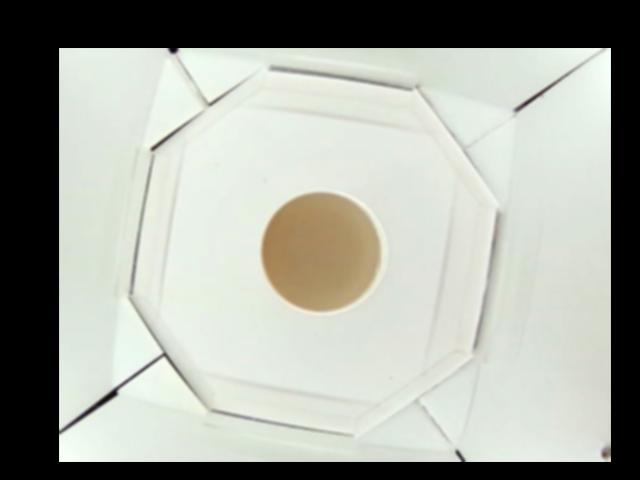Cup: (259, 190, 385, 312)
